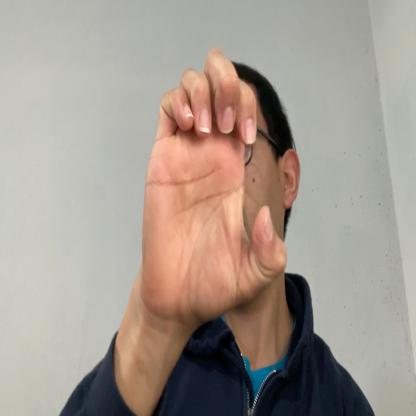E: (140, 47, 289, 327)
